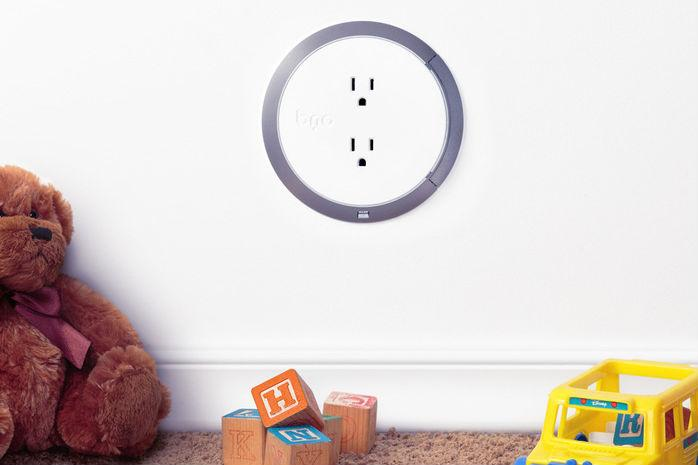outlet: (347, 134, 379, 169), (347, 72, 378, 108)
